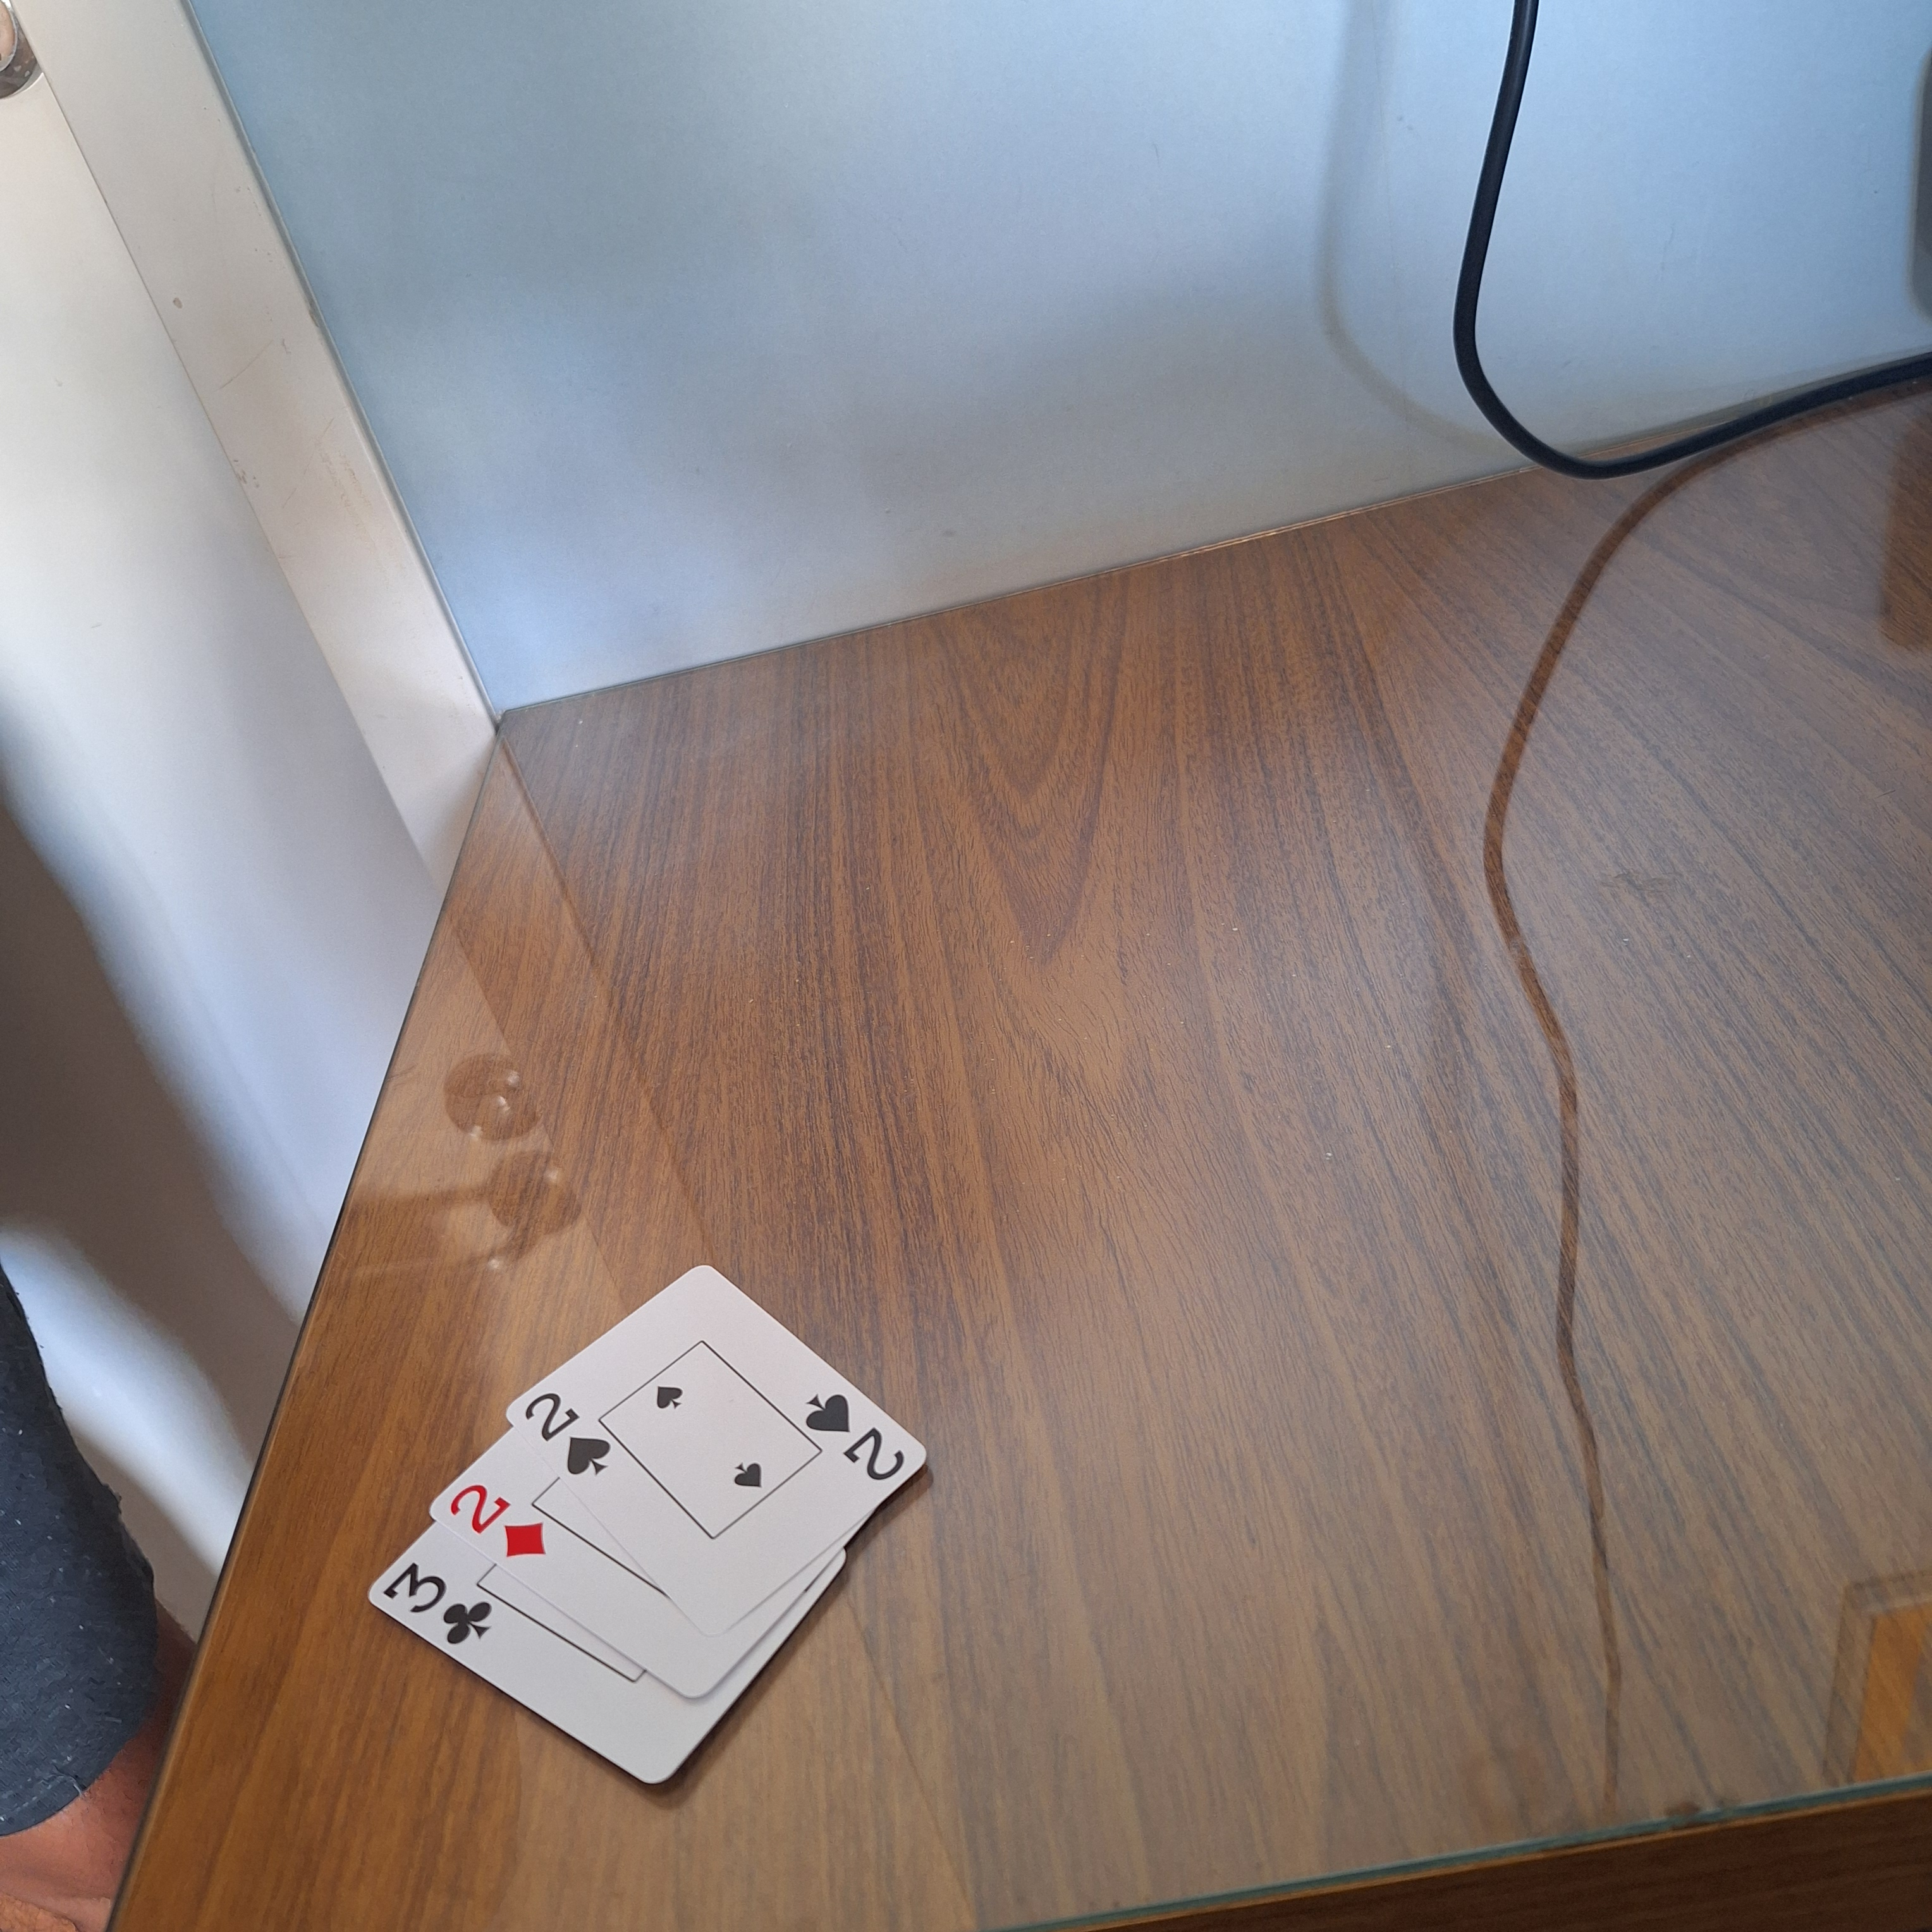2E: (798, 1382, 909, 1486), (518, 1382, 612, 1481)
2O: (439, 1476, 554, 1571)
3P: (377, 1555, 502, 1656)
